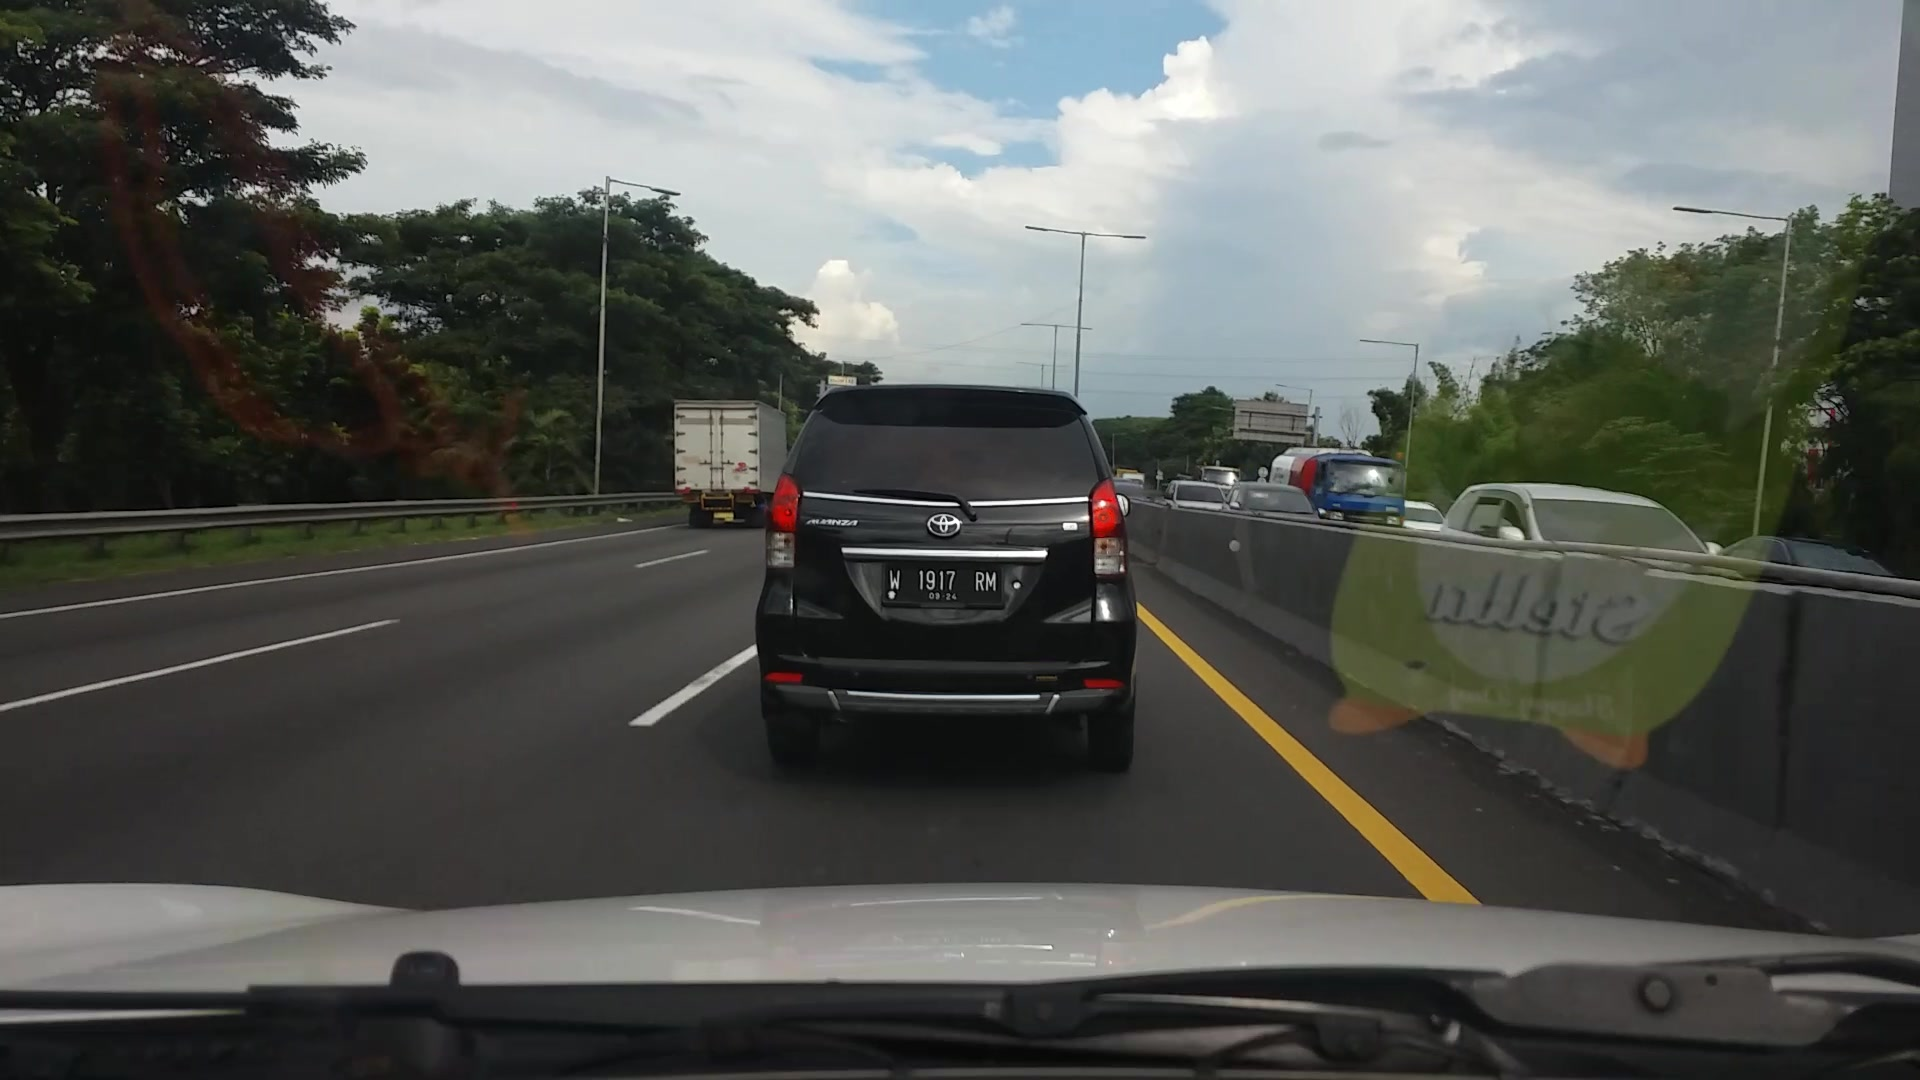plate_positive: (882, 560, 1004, 608)
